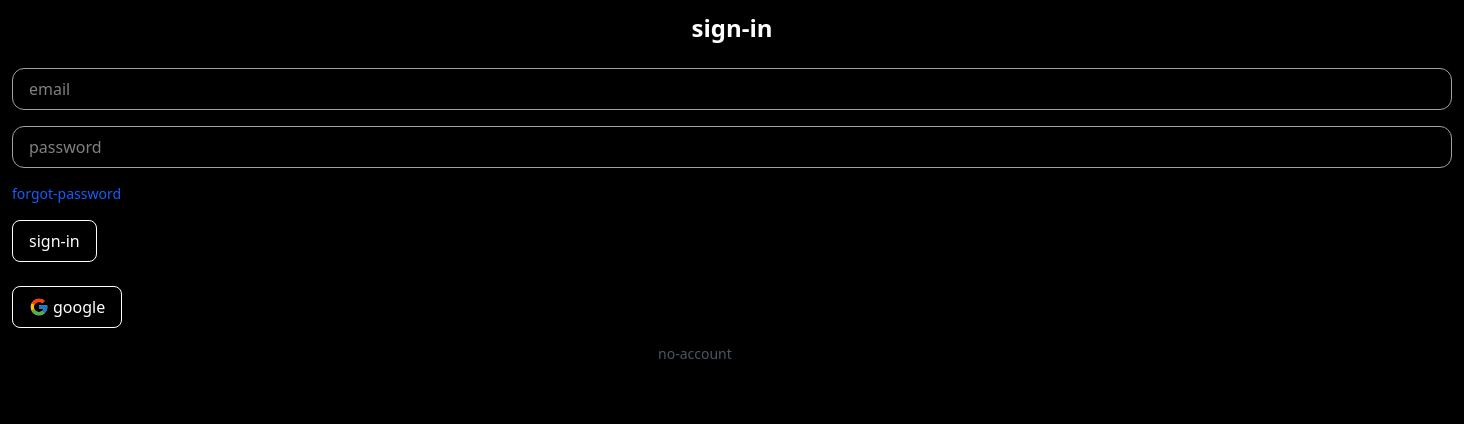
Test case: SignInPage › shows validation errors when submitting empty form
The width and height of the screenshot is (1464, 424).
Click the button "sign-in". click: click(54, 241)
box: [12,220,97,262]
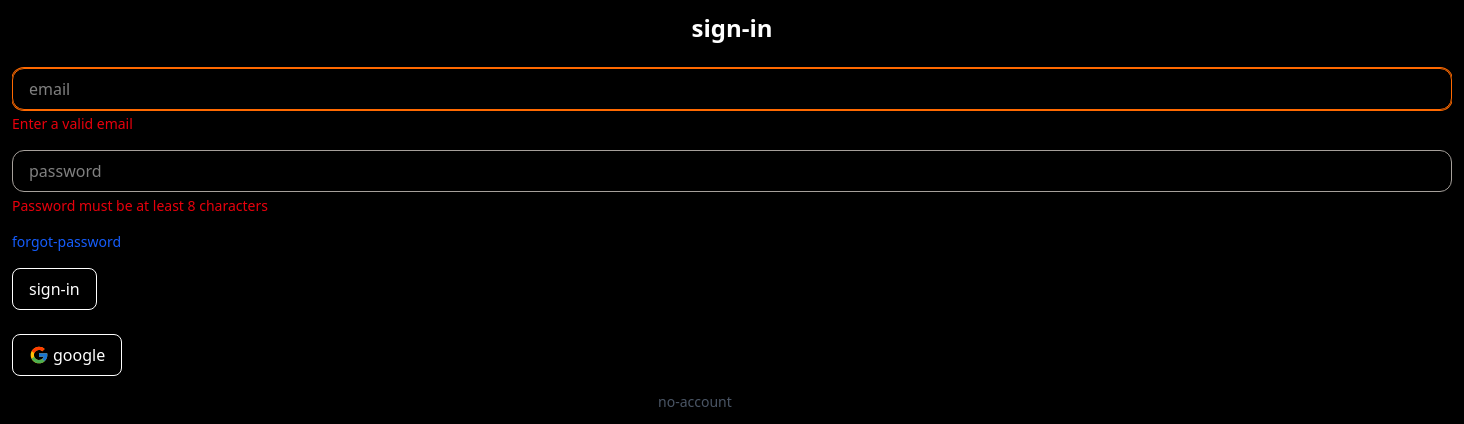
expect the text "Enter a valid email" is shown: met, box [12,114,133,133]
expect the text "Password must be at least 8 characters" is shown: met, box [12,196,268,215]
